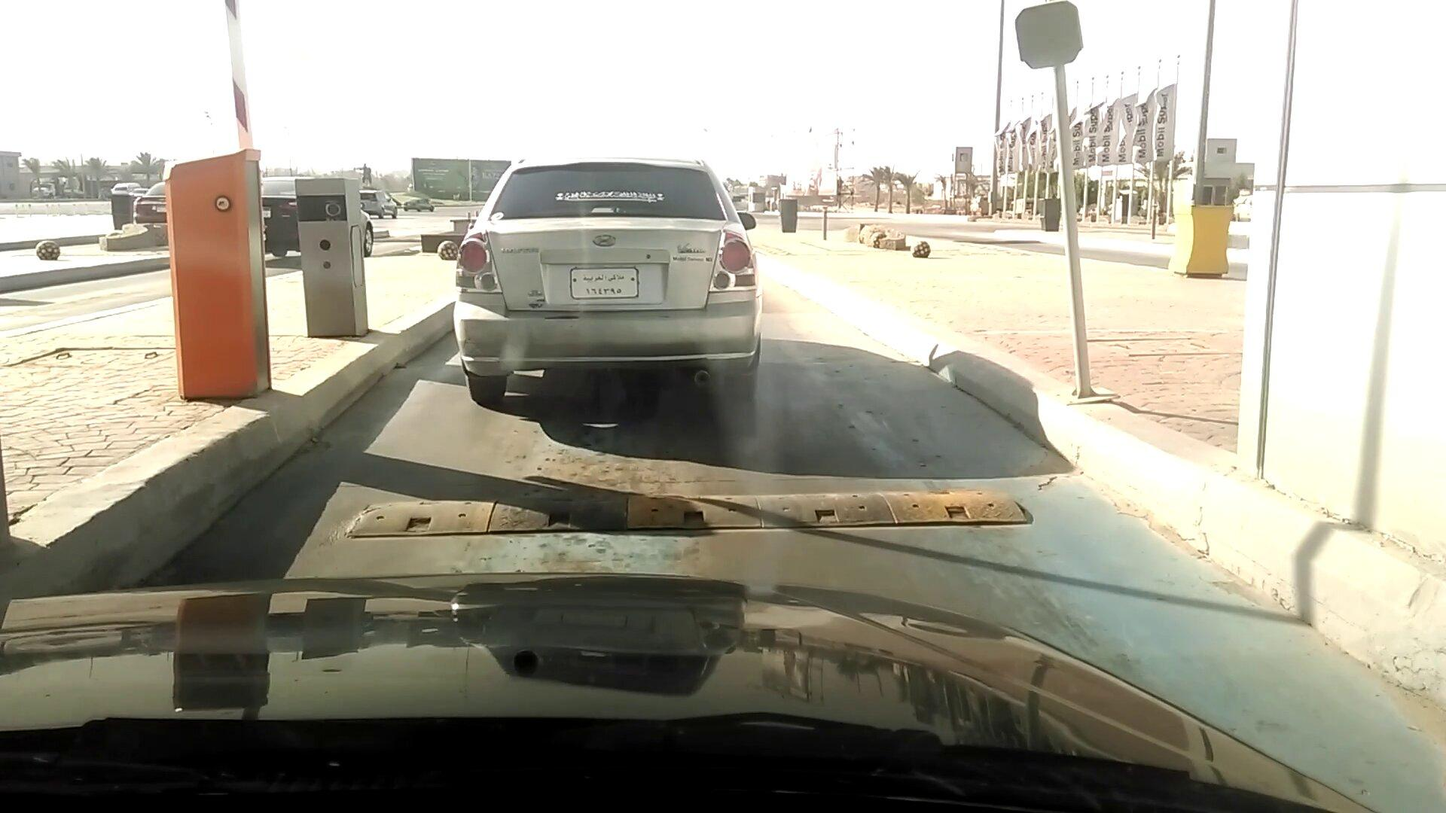Bump: (358, 472, 1009, 550)
